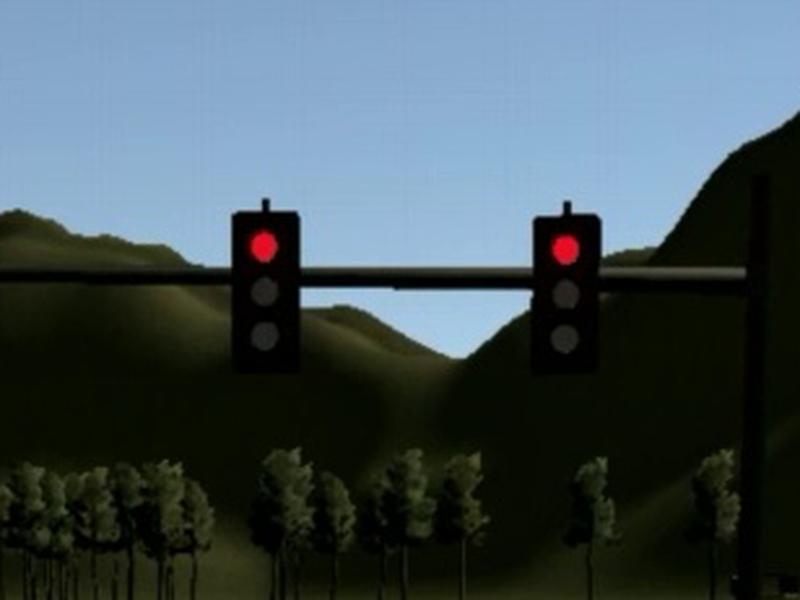Red: (530, 214, 603, 364), (229, 209, 302, 358)
